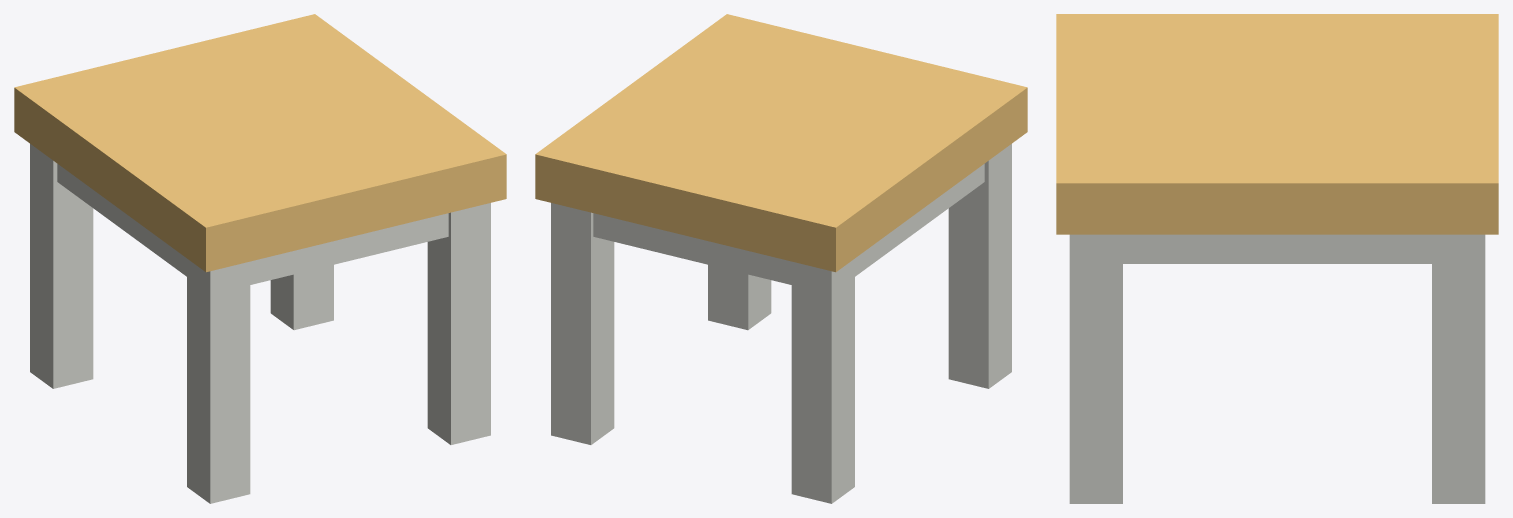
File: Stool_3B.fbx
3 renders of one model, left to right at view 1: azimuth 30°, elevation 25°; view 2: azimuth 150°, elevation 25°; view 3: azimuth 270°, elevation 25°, orthographic. The views are drawn at different scales.
Visible parts, largest first — view 1: polySurface2093; view 2: polySurface2093; view 3: polySurface2093.
Part boxes in pixels (left/top/right/bottom): polySurface2093: left=14, top=14, right=506, bottom=503; polySurface2093: left=535, top=14, right=1027, bottom=503; polySurface2093: left=1056, top=14, right=1498, bottom=503.
Bounding box in the file's own units: 0.6 × 0.5392 × 0.6625.
Materials: 1 (1 with a texture image).
